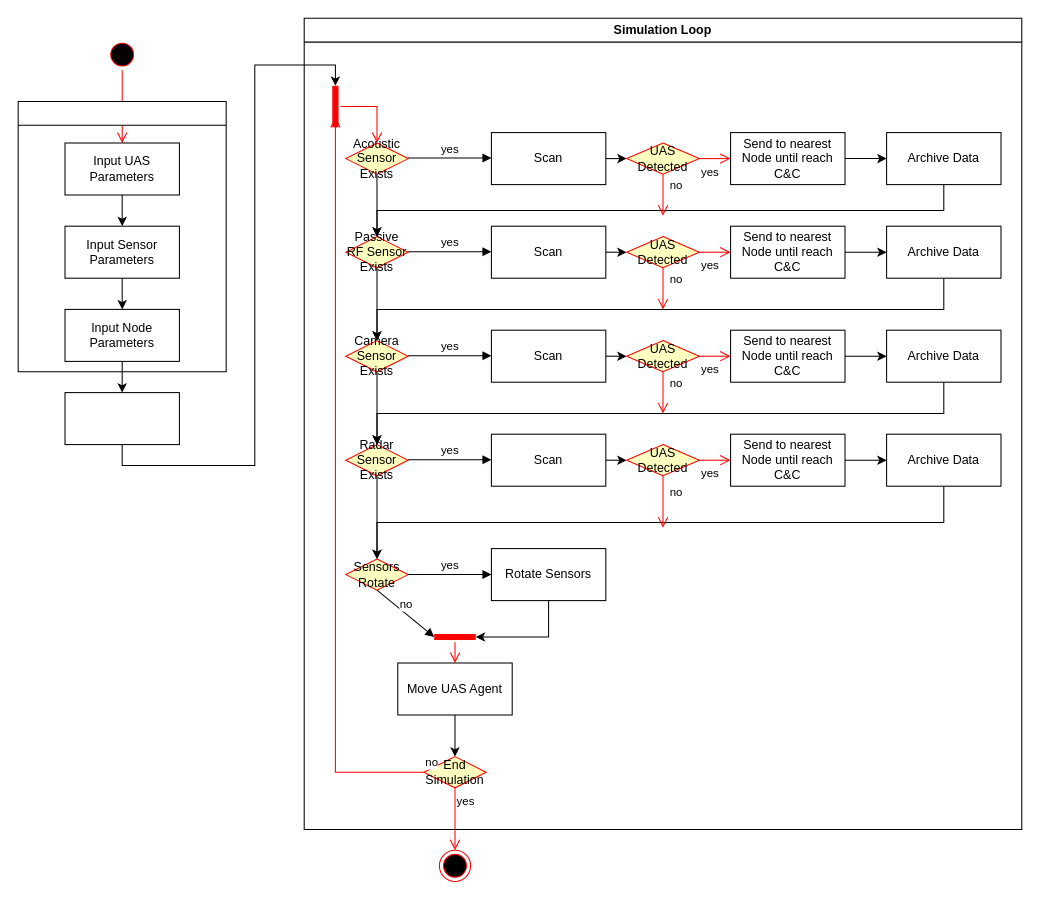
Image size: 1040x900. Some labels were removed from this diagram. The centre of each missing label's shape, as x and y in pixels:
"Begin Simulation" belongs at [121,418].
"Initialize Simulation" belongs at [121,236].
